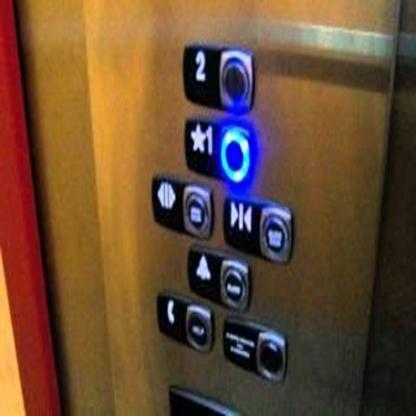2: (180, 39, 256, 114)
alarm: (184, 240, 252, 314)
call: (154, 287, 216, 355)
close: (221, 190, 294, 265)
open: (148, 171, 216, 240)
s1: (183, 111, 256, 185)
